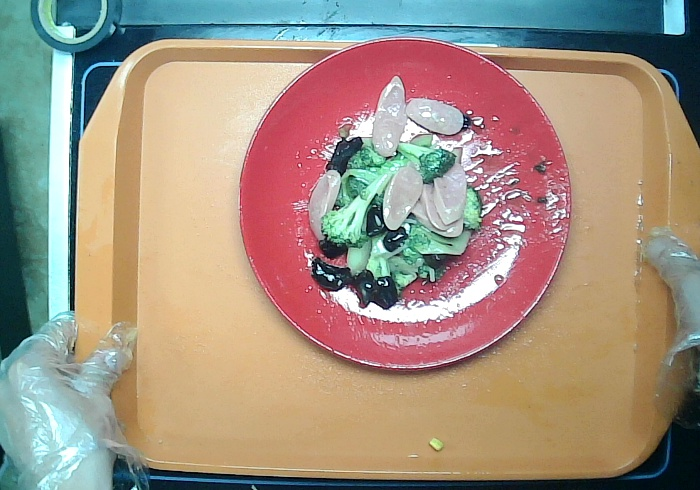HZYJPL-Hong_Se_Yuan_Pan: (221, 33, 578, 393)
